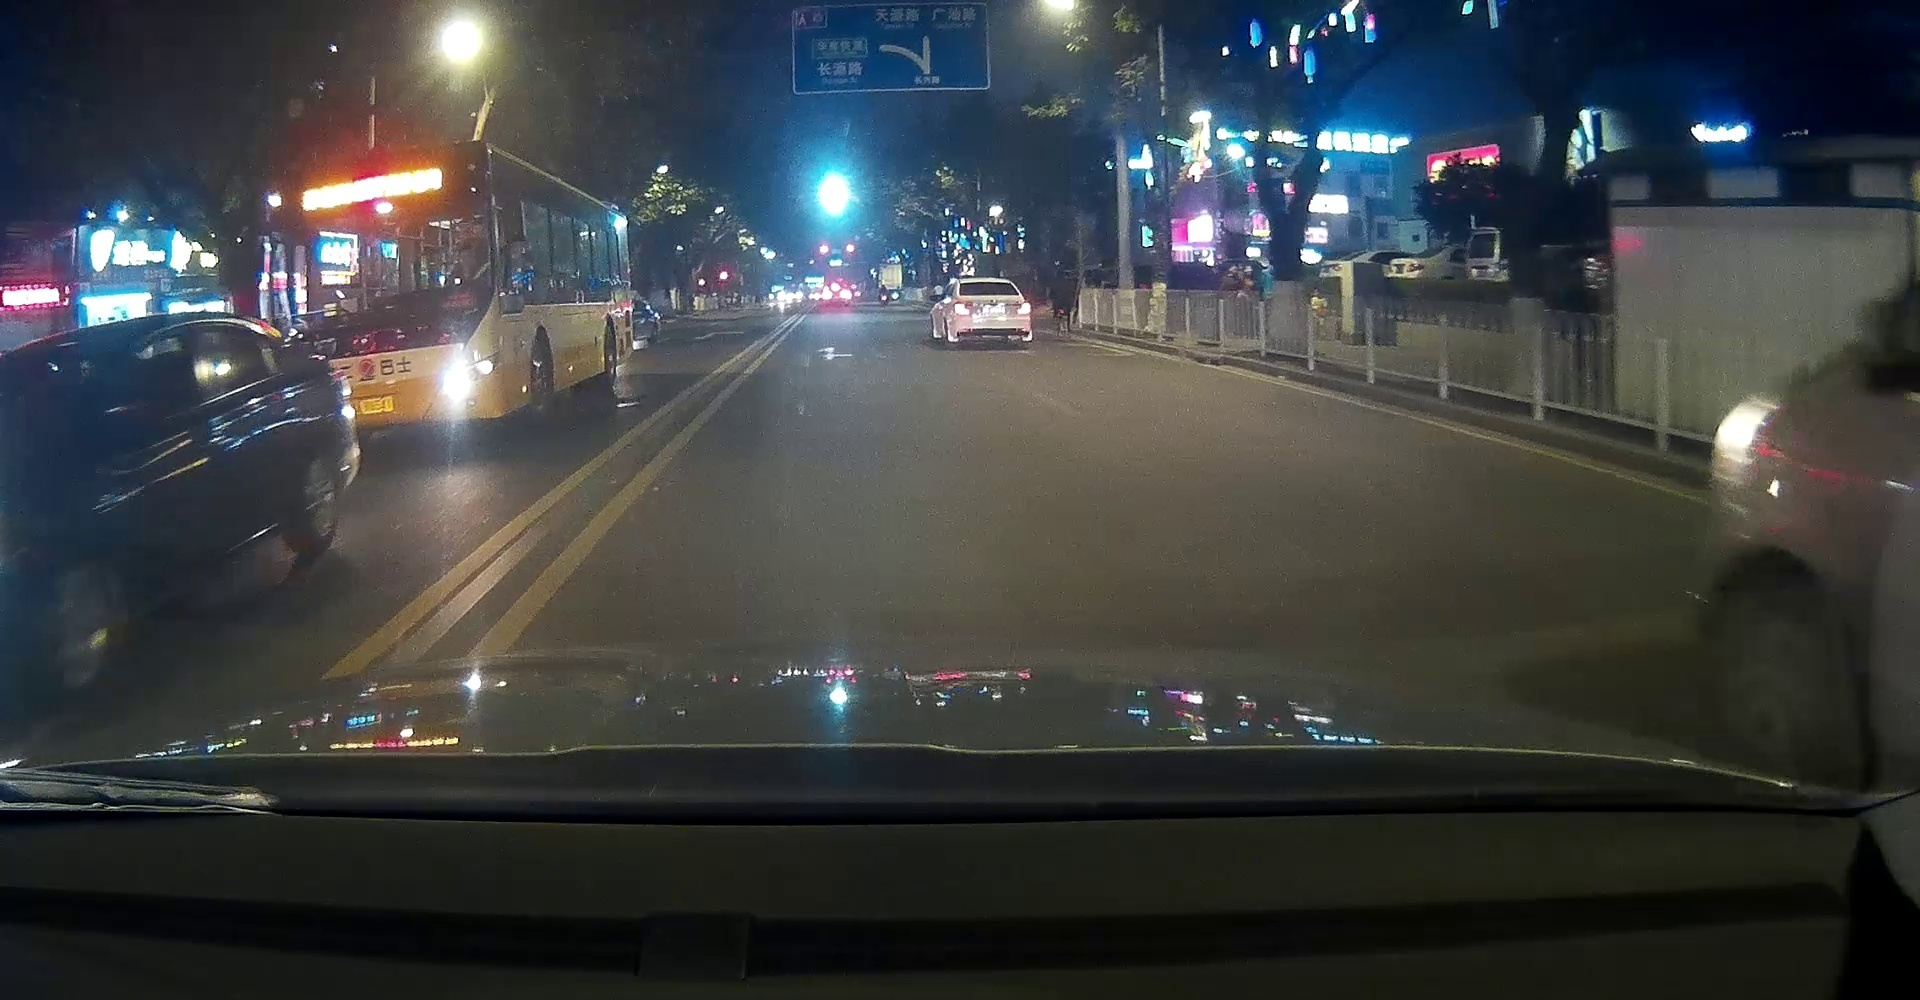L_light: (955, 303, 969, 313)
R_light: (1018, 305, 1030, 313)
T_light: (983, 282, 996, 286)
night-no: (952, 277, 1031, 346)
